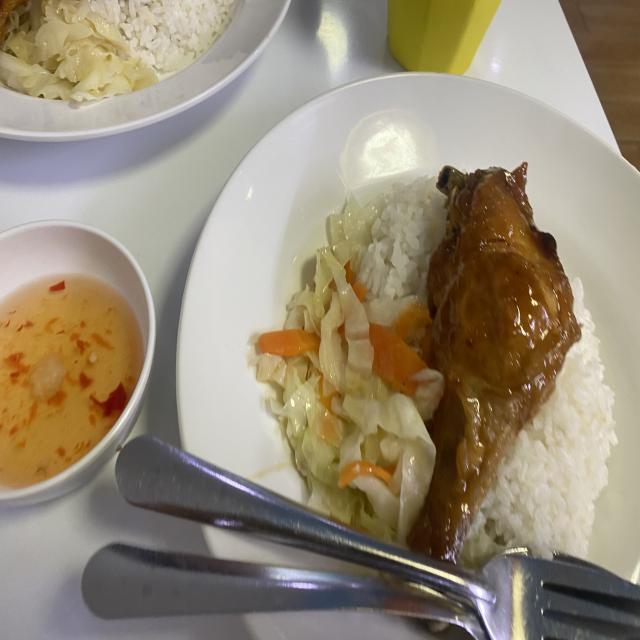bap cai xao: (251, 196, 426, 537)
com: (461, 278, 618, 562), (359, 178, 446, 304)
ga chien: (410, 163, 581, 560)
nuoc mam: (0, 275, 144, 489)
